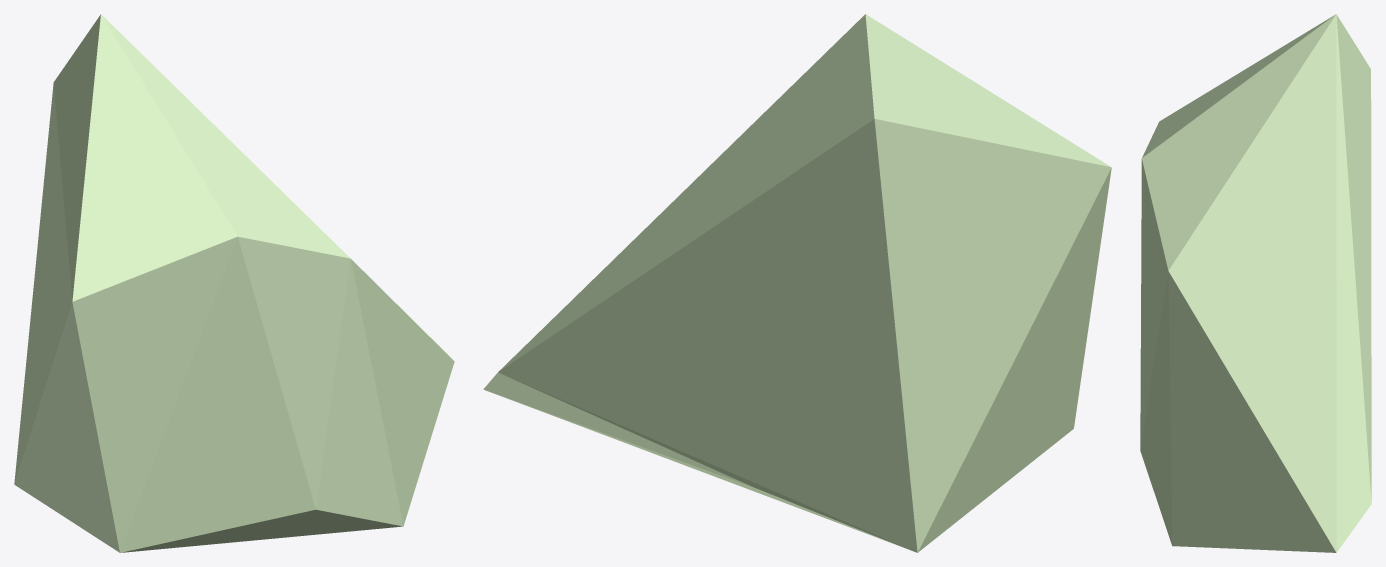
Rendered from iiwa_robot_base_coll_10.obj.
3 renders of one model, left to right at view 1: azimuth 30°, elevation 25°; view 2: azimuth 150°, elevation 25°; view 3: azimuth 270°, elevation 25°, orthographic. The views are drawn at different scales.
Parts seen in each view (by area): view 1: node; view 2: node; view 3: node.
Part boxes in pixels (x1=…): node: x1=14, y1=14, x2=454, y2=552; node: x1=483, y1=14, x2=1111, y2=552; node: x1=1140, y1=14, x2=1371, y2=552.
Size of the model in its own units: 0.0289 by 0.0284 by 0.0135.
